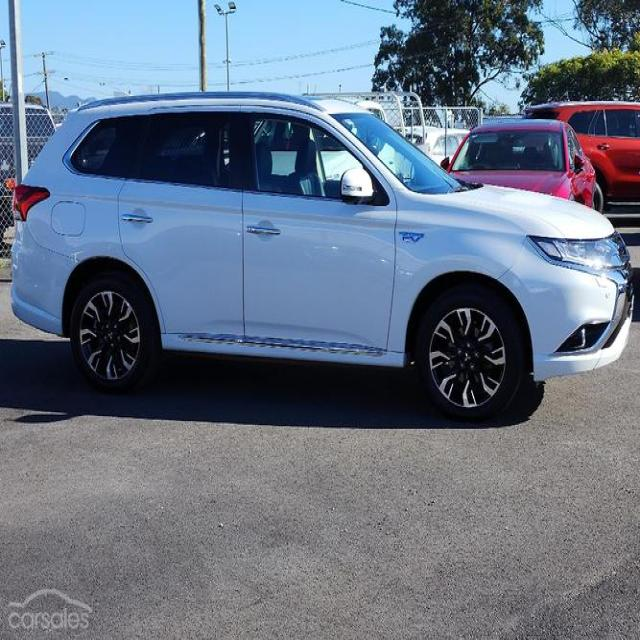light_vehicle: (5, 91, 636, 422)
